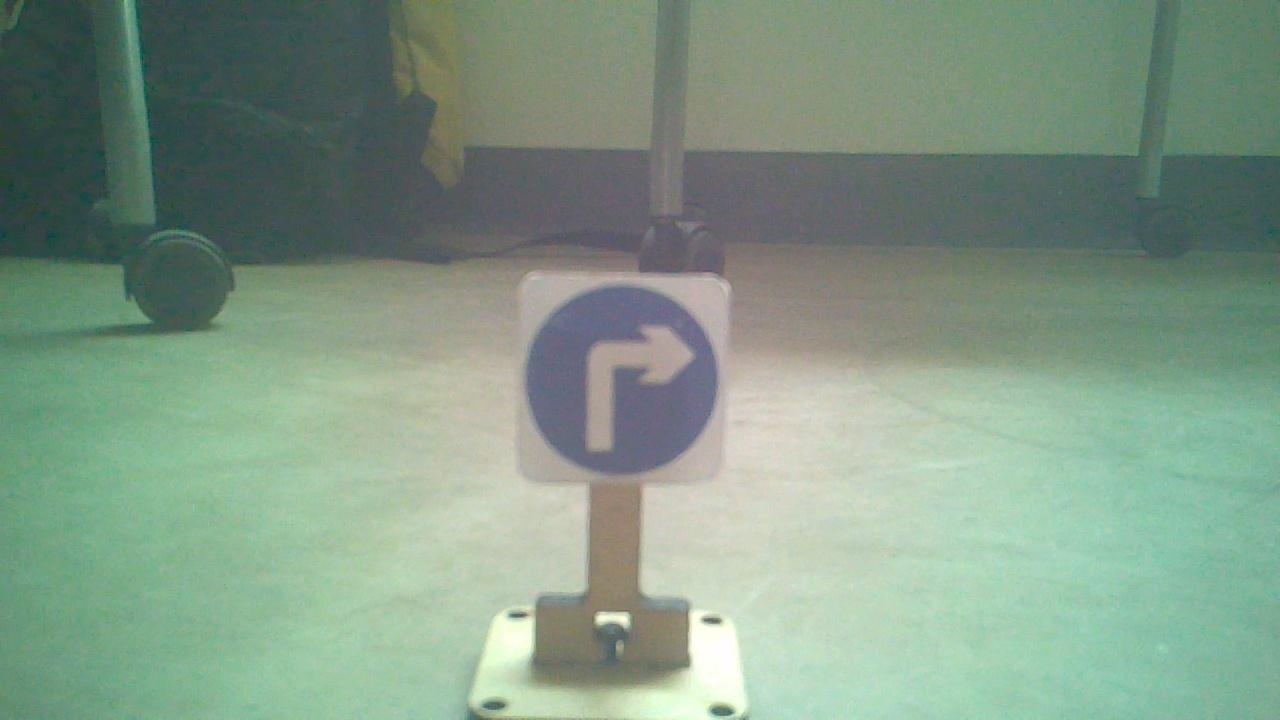turn: (524, 278, 720, 477)
